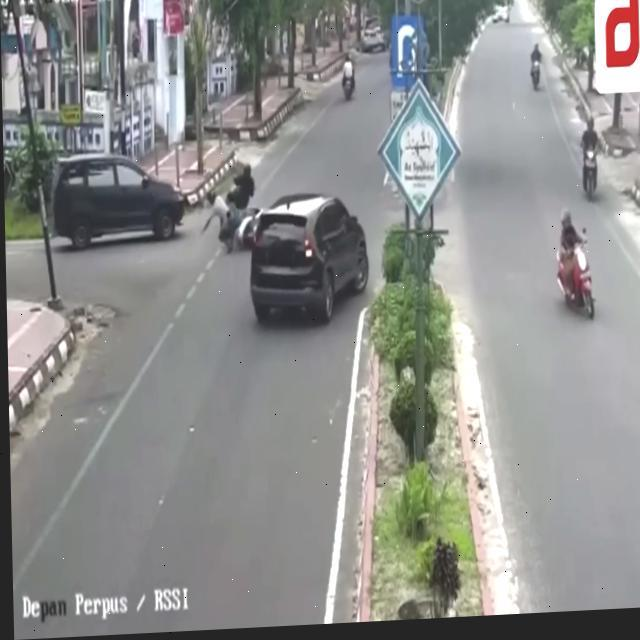multiple_accident: (197, 140, 396, 351), (46, 129, 267, 255)
normal: (535, 196, 609, 334), (566, 110, 624, 212)
